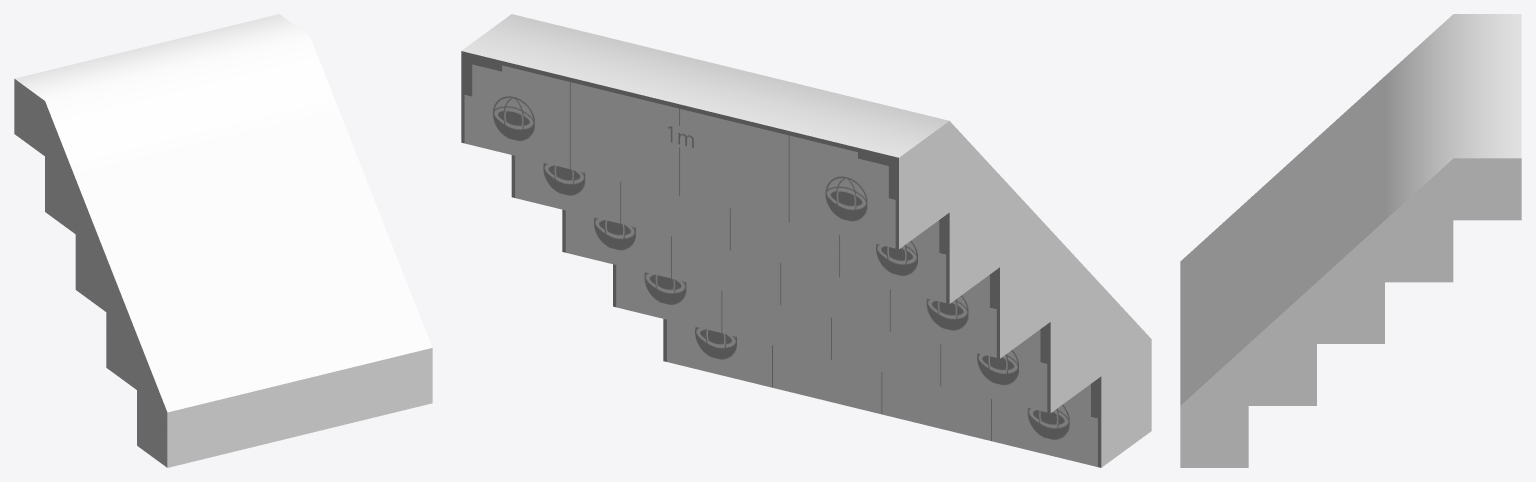
Rendered from Stairs_1x1x1.fbx.
3 renders of one model, left to right at view 1: azimuth 30°, elevation 25°; view 2: azimuth 150°, elevation 25°; view 3: azimuth 270°, elevation 25°, orthographic. The views are drawn at different scales.
Parts seen in each view (by area): view 1: Stairs_1x1x1; view 2: Stairs_1x1x1; view 3: Stairs_1x1x1.
Boxes of the visible parts, <box> form: Stairs_1x1x1: <box>14,14,432,467</box>; Stairs_1x1x1: <box>461,14,1151,467</box>; Stairs_1x1x1: <box>1180,14,1521,467</box>.
Bounding box in the file's own units: 1 × 1 × 1.
